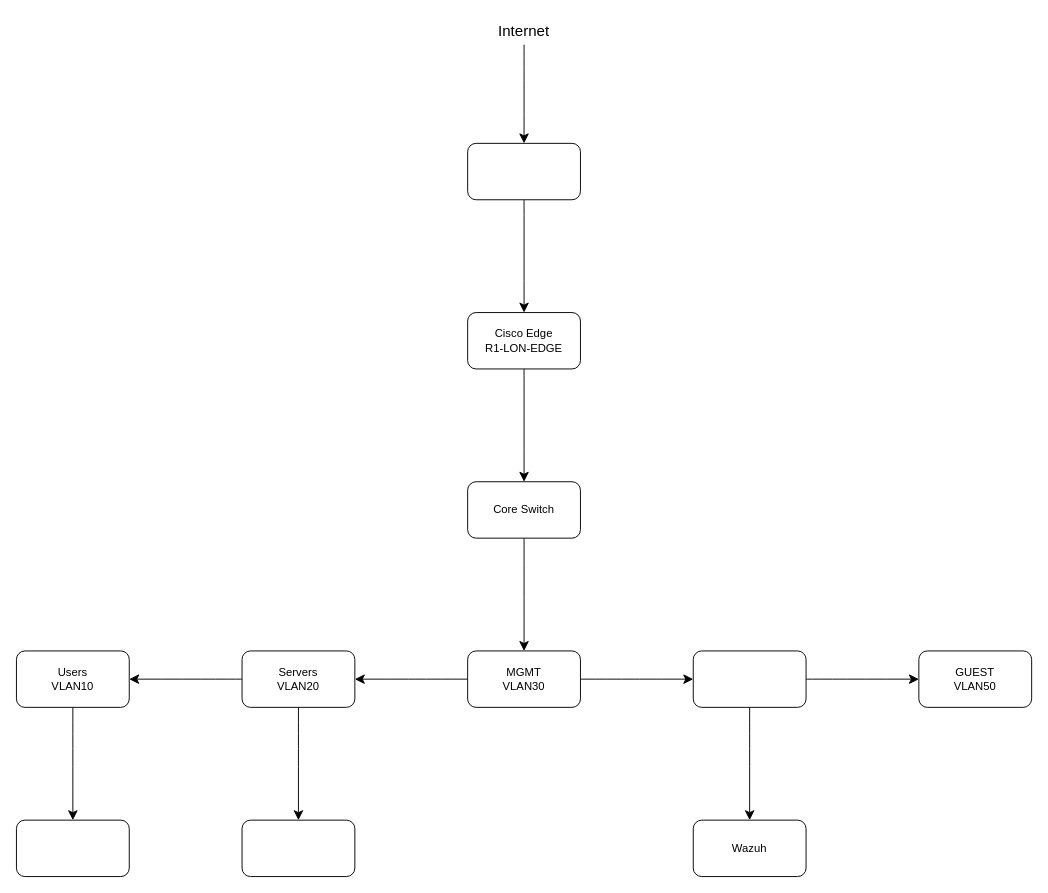
Some shapes in this 1048 by 893 pixel diagram are drawn without their labels. Each missing label, with the centre of its shape:
pfSense FW-LON-01: point (523, 171)
Security VLAN40: point (749, 678)
Ubuntu: point (298, 848)
Windows: point (72, 848)
